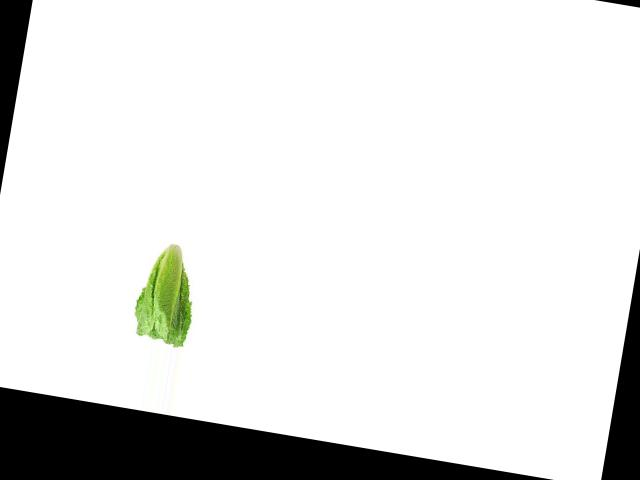lettuce: (126, 237, 208, 350)
